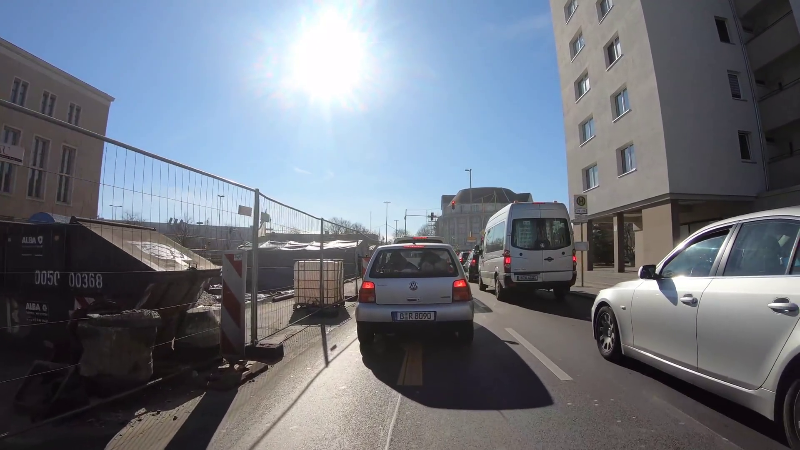Plate: (389, 309, 438, 320), (513, 271, 539, 281)
